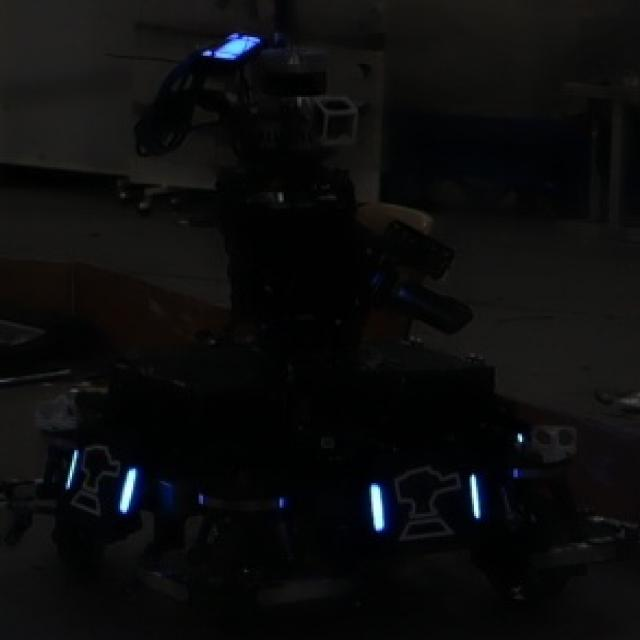Bs: (367, 462, 487, 543), (61, 440, 138, 522)
